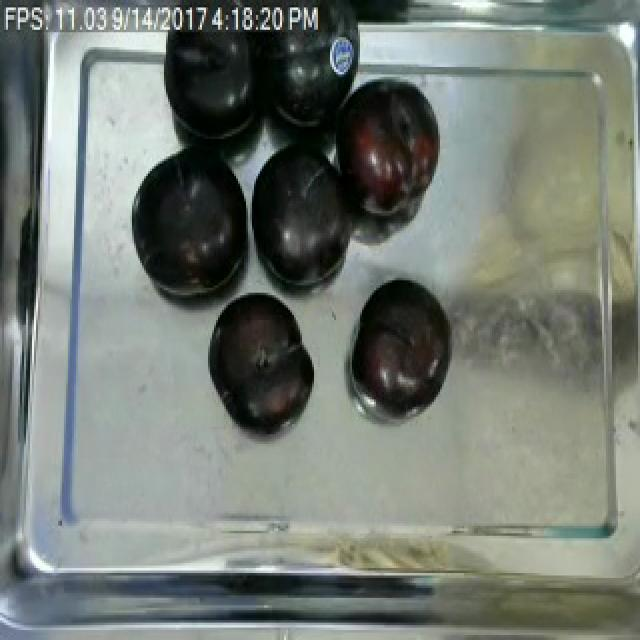Fruit: (126, 132, 252, 302), (242, 129, 370, 295), (324, 72, 448, 228), (202, 283, 320, 434), (344, 268, 458, 414)
